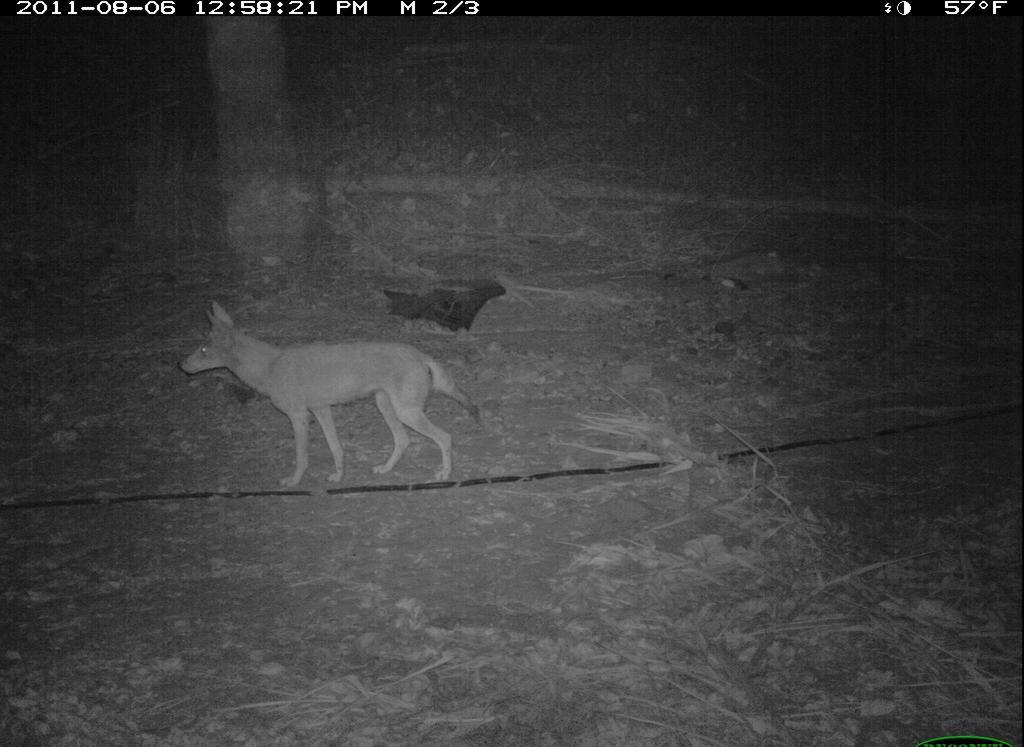coyote: (163, 289, 505, 514)
